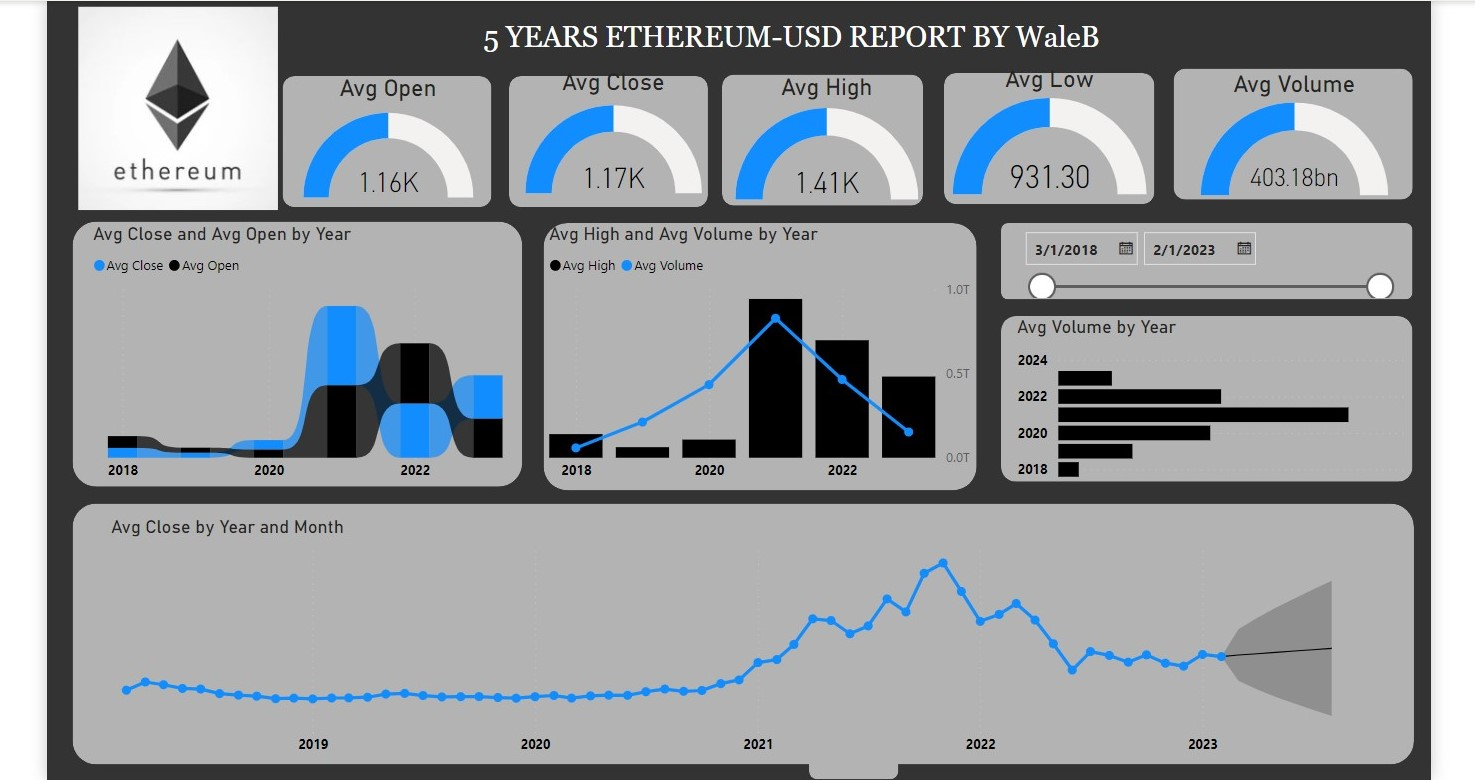

This screenshot's page, from the dashboard's own definition file:
{"tool":"powerbi","page":{"name":"Page 1","canvas":[1280,720],"ordinal":0},"visuals":[{"type":"shape","box":[218,69.1,193.4,121.3],"z":0},{"type":"shape","box":[426.8,69.1,184.2,121.3],"z":1000},{"type":"shape","box":[624.8,67.5,185.8,121.3],"z":2000},{"type":"shape","box":[829,66,195,121.3],"z":3000},{"type":"shape","box":[1042.4,62.9,221.1,121.3],"z":4000},{"type":"shape","box":[23,204.2,416,245.6],"z":5000},{"type":"shape","box":[23,465.2,1240.4,241],"z":6000},{"type":"shape","box":[704.6,475.9,82.9,244.1],"z":7000},{"type":"shape","box":[459,205.7,400.7,247.2],"z":8000},{"type":"shape","box":[882.7,291.7,380.7,153.5],"z":9000},{"type":"gauge","fields":{"Y":["ETH-USD.Avg Open"]},"box":[231.8,67.5,167.3,124.3],"z":10000},{"type":"gauge","fields":{"Y":["ETH-USD.Avg Close"]},"box":[437.5,62.9,173.5,124.3],"z":11000},{"type":"gauge","fields":{"Y":["ETH-USD.Avg High"]},"box":[631,66,179.6,124.3],"z":12000},{"type":"gauge","fields":{"Y":["ETH-USD.Avg Low"]},"box":[822.9,59.9,208.8,124.3],"z":13000},{"type":"gauge","fields":{"Y":["ETH-USD.Avg Volume"]},"box":[1039.3,64.5,228.7,121.3],"z":14000},{"type":"ribbonChart","fields":{"Y":["ETH-USD.Avg Close","ETH-USD.Avg Open"],"Category":["ETH-USD.Date.Variation.Date Hierarchy.Year"]},"box":[36.8,205.7,402.2,247.2],"z":15000},{"type":"lineStackedColumnComboChart","fields":{"Category":["ETH-USD.Date.Variation.Date Hierarchy.Year"],"Y":["ETH-USD.Avg High"],"Y2":["ETH-USD.Avg Volume"]},"box":[458.3,205,401.7,248.3],"z":16000},{"type":"barChart","fields":{"Category":["ETH-USD.Date.Variation.Date Hierarchy.Year"],"Y":["ETH-USD.Avg Volume"]},"box":[891.9,291.7,371.5,162.7],"z":17000},{"type":"lineChart","fields":{"Y":["ETH-USD.Avg Close"],"Category":["ETH-USD.Date.Variation.Date Hierarchy.Year","ETH-USD.Date.Variation.Date Hierarchy.Month"]},"box":[53.7,475.9,1152.9,230.3],"z":18000},{"type":"image","box":[23,0,195,198],"z":19000},{"type":"shape","box":[882.7,205.7,380.7,70.6],"z":20000},{"type":"slicer","fields":{"Values":["ETH-USD.Date"]},"box":[891.9,204.2,345.4,87.5],"z":21000},{"type":"textbox","box":[238,12.3,899.6,50.7],"z":22000}]}

Visuals, with their boxes on the page's 1280x720 design canvas (x1, y1, x2, y2). These are canvas units, not pixel positions in the 1475x780 screenshot, which may show the page scaled, cropped or inside an application window:
shape: bbox=(218, 69, 411, 190)
shape: bbox=(427, 69, 611, 190)
shape: bbox=(625, 68, 811, 189)
shape: bbox=(829, 66, 1024, 187)
shape: bbox=(1042, 63, 1264, 184)
shape: bbox=(23, 204, 439, 450)
shape: bbox=(23, 465, 1263, 706)
shape: bbox=(705, 476, 788, 720)
shape: bbox=(459, 206, 860, 453)
shape: bbox=(883, 292, 1263, 445)
gauge - ETH-USD.Avg Open: bbox=(232, 68, 399, 192)
gauge - ETH-USD.Avg Close: bbox=(438, 63, 611, 187)
gauge - ETH-USD.Avg High: bbox=(631, 66, 811, 190)
gauge - ETH-USD.Avg Low: bbox=(823, 60, 1032, 184)
gauge - ETH-USD.Avg Volume: bbox=(1039, 64, 1268, 186)
ribbonChart - ETH-USD.Avg Close x ETH-USD.Avg Open: bbox=(37, 206, 439, 453)
lineStackedColumnComboChart - ETH-USD.Date.Variation.Date Hierarchy.Year x ETH-USD.Avg High: bbox=(458, 205, 860, 453)
barChart - ETH-USD.Date.Variation.Date Hierarchy.Year x ETH-USD.Avg Volume: bbox=(892, 292, 1263, 454)
lineChart - ETH-USD.Avg Close x ETH-USD.Date.Variation.Date Hierarchy.Year: bbox=(54, 476, 1207, 706)
image: bbox=(23, 0, 218, 198)
shape: bbox=(883, 206, 1263, 276)
slicer - ETH-USD.Date: bbox=(892, 204, 1237, 292)
textbox: bbox=(238, 12, 1138, 63)
